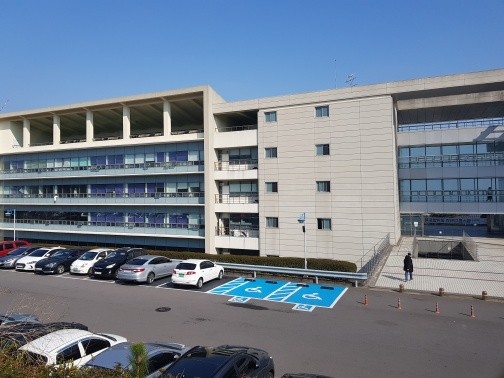Engineering College Building 4: (1, 90, 500, 245), (211, 101, 398, 239), (16, 105, 200, 245)
